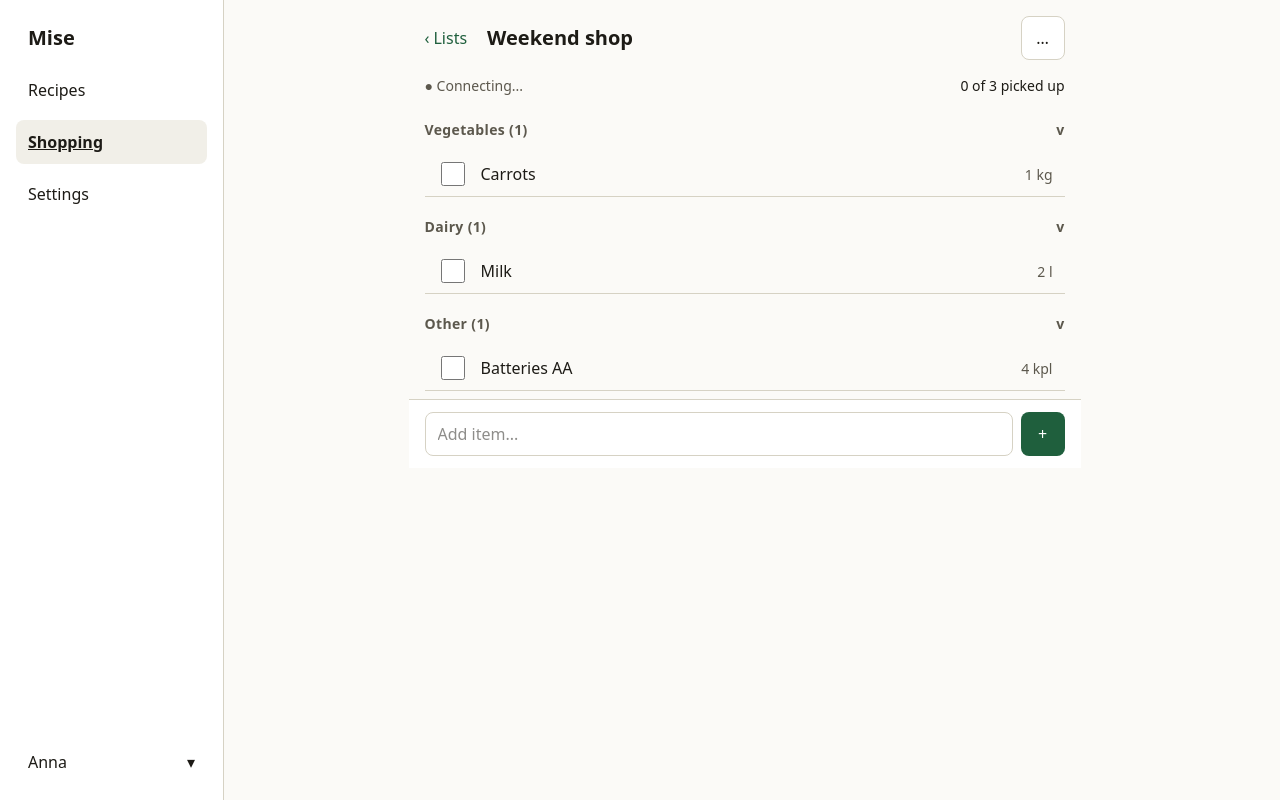
list view fixes › FR-36: a category header collapses and expands its rows
Check: the text "Milk" is shown, box [480,259,512,283]
Click the button "Dairy (1) v" at (455, 226), box [424,205,1064,249]
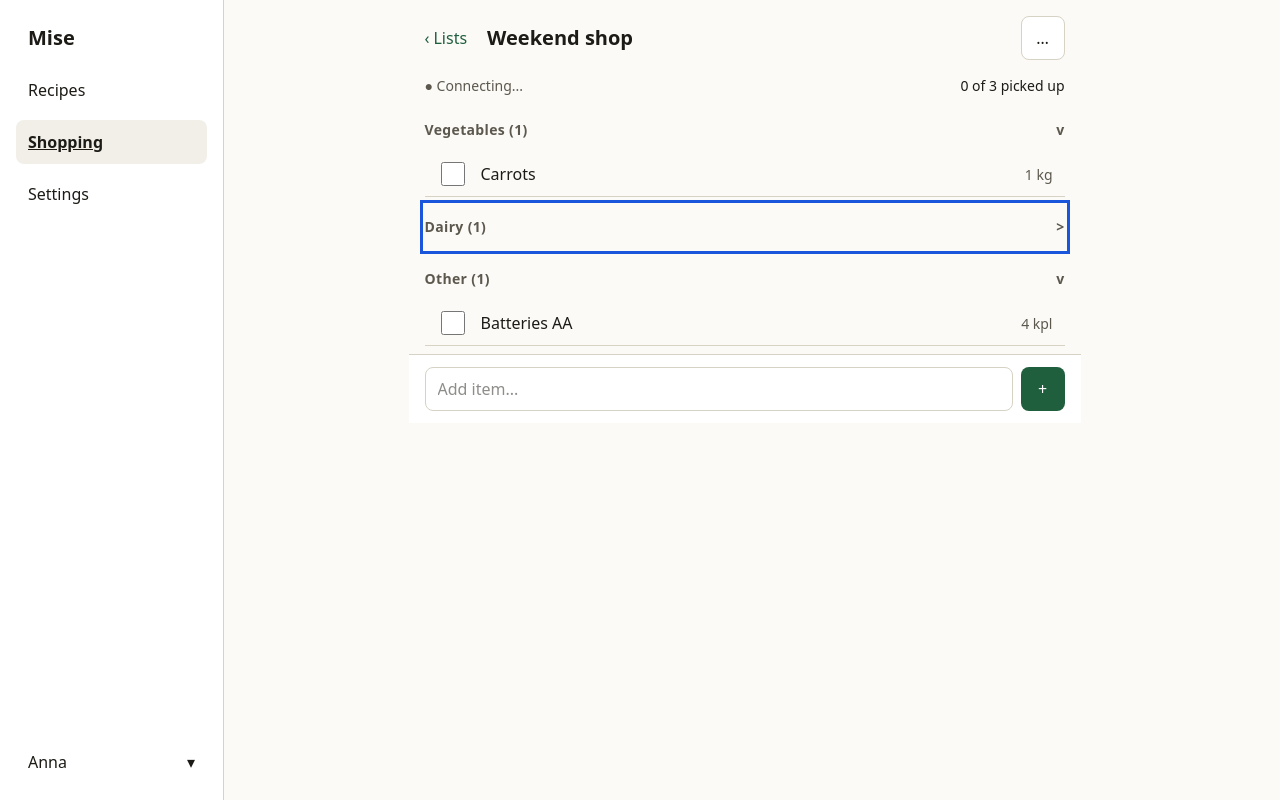
Check: the text "Carrots" is shown, box [480,162,536,186]
Check: the button "Dairy (1) >" is collapsed
Check: the button "Milk" is gone
Click the button "Dairy (1) >" at (455, 226), box [424,205,1064,249]
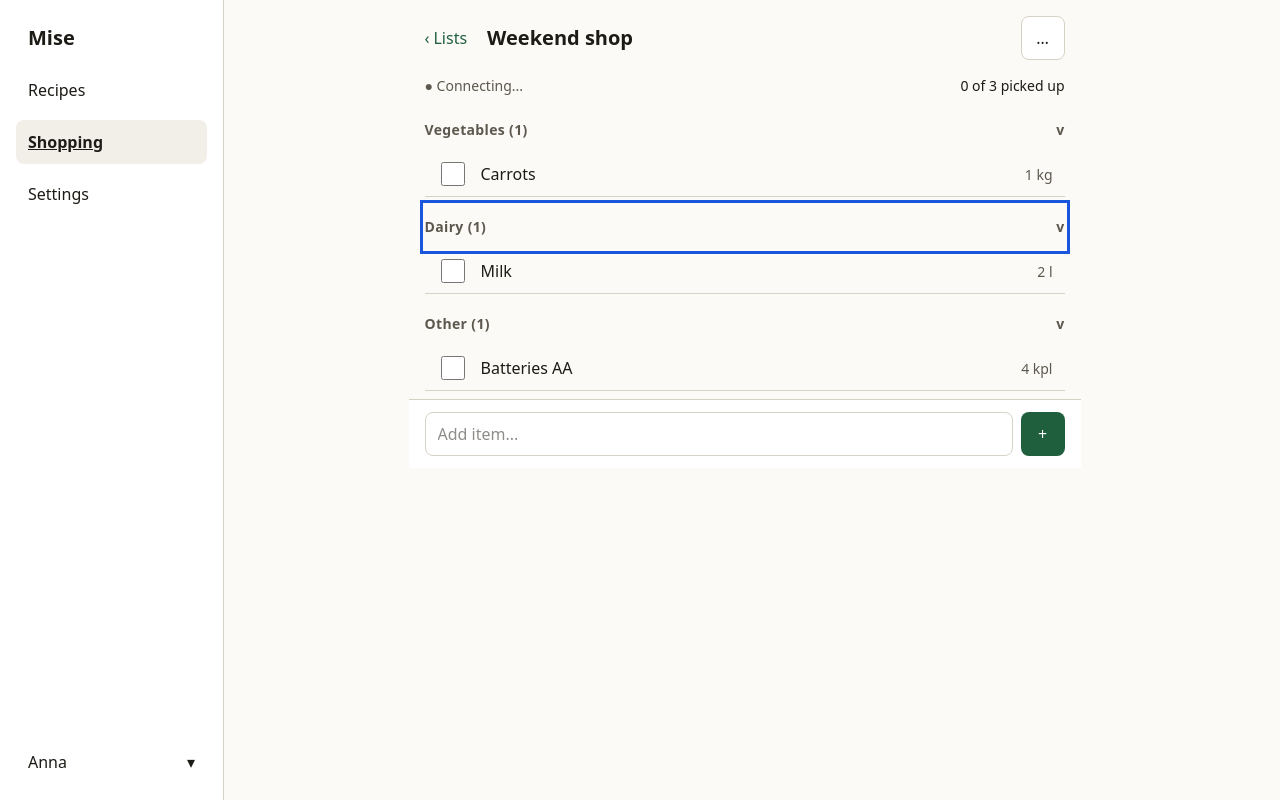
Check: the text "Milk" is shown, box [480,259,512,283]
